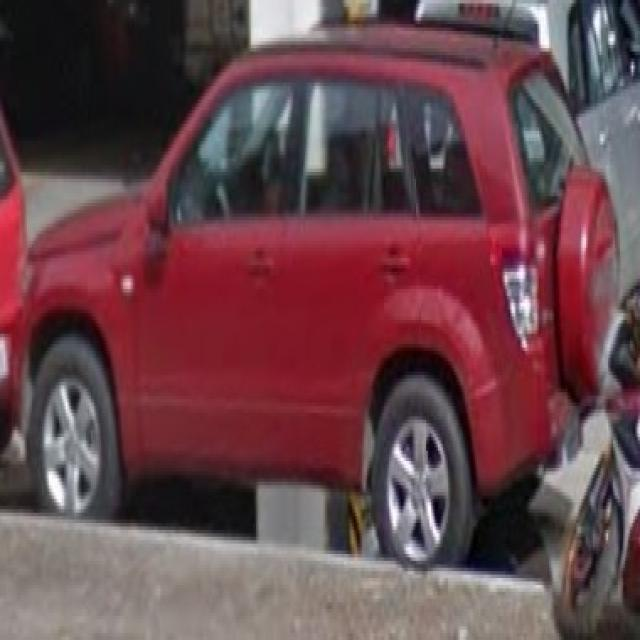car: (16, 19, 622, 570)
